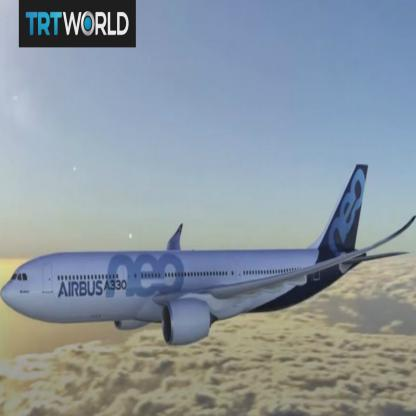CIV_Plane: (0, 160, 414, 358)
